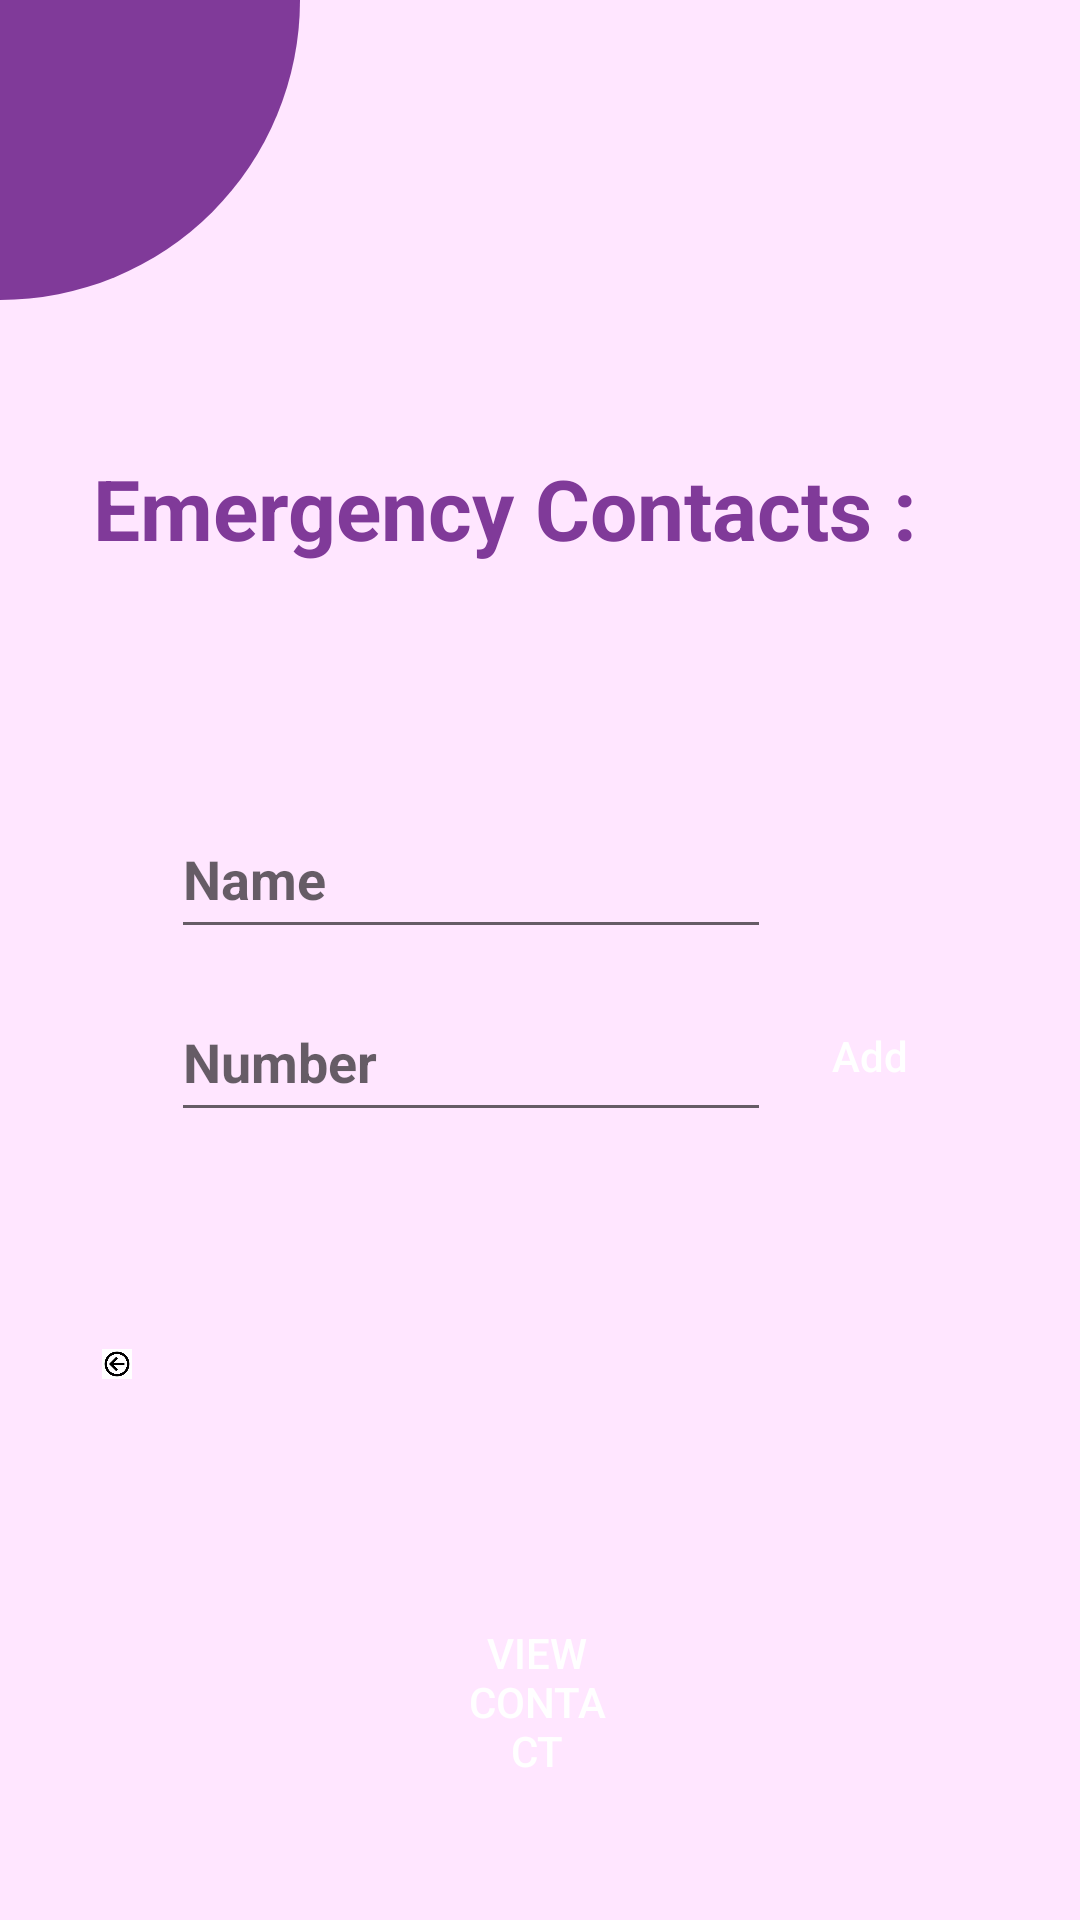

Screen size 1080px x 1920px. Icon name, then its box in pixels as [x1=x1, y1=y1, x2=x2, y2=y2]:
backarrow: [x1=102, y1=1349, x2=132, y2=1379]
